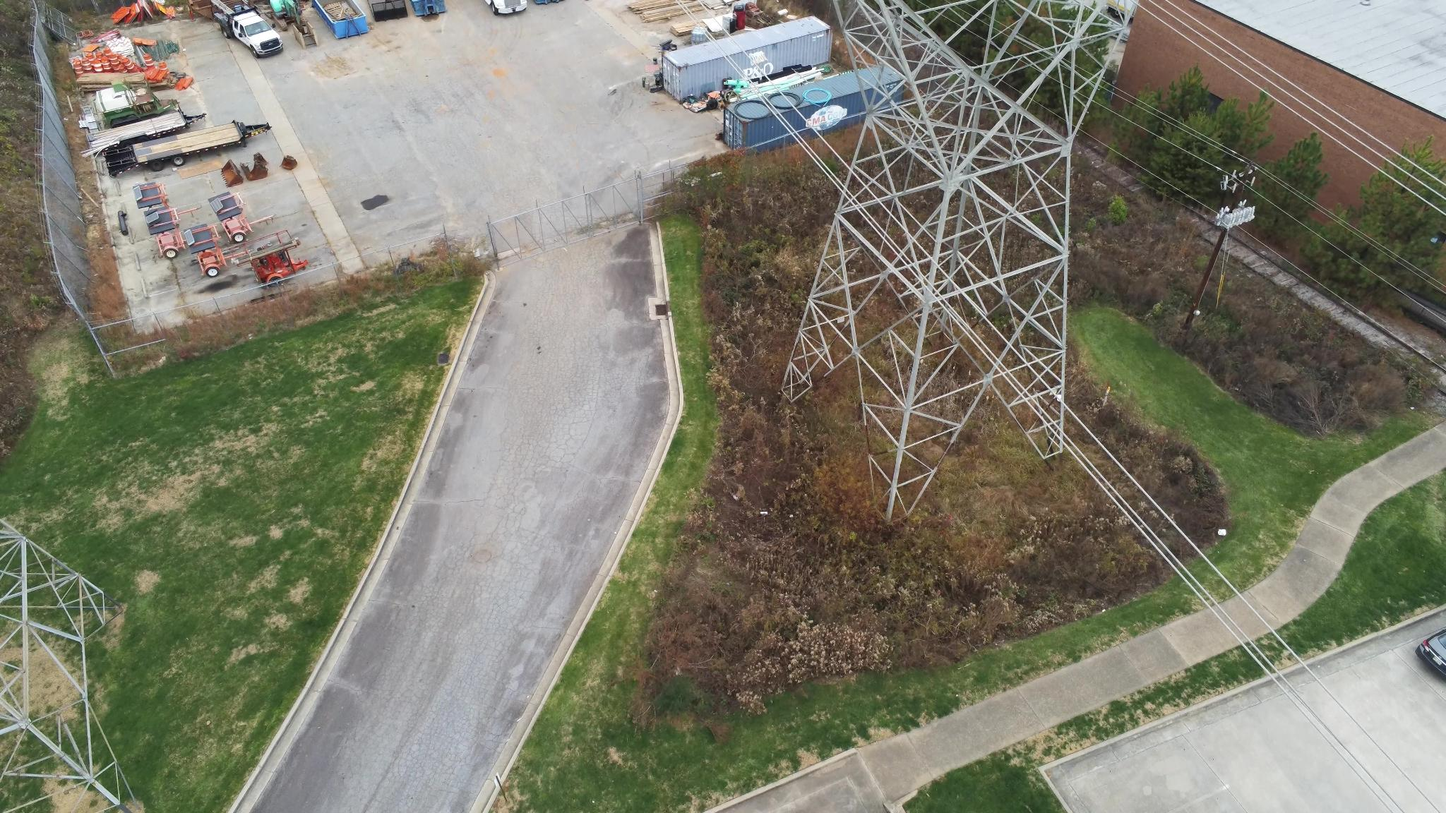tower: (75, 267, 962, 663)
